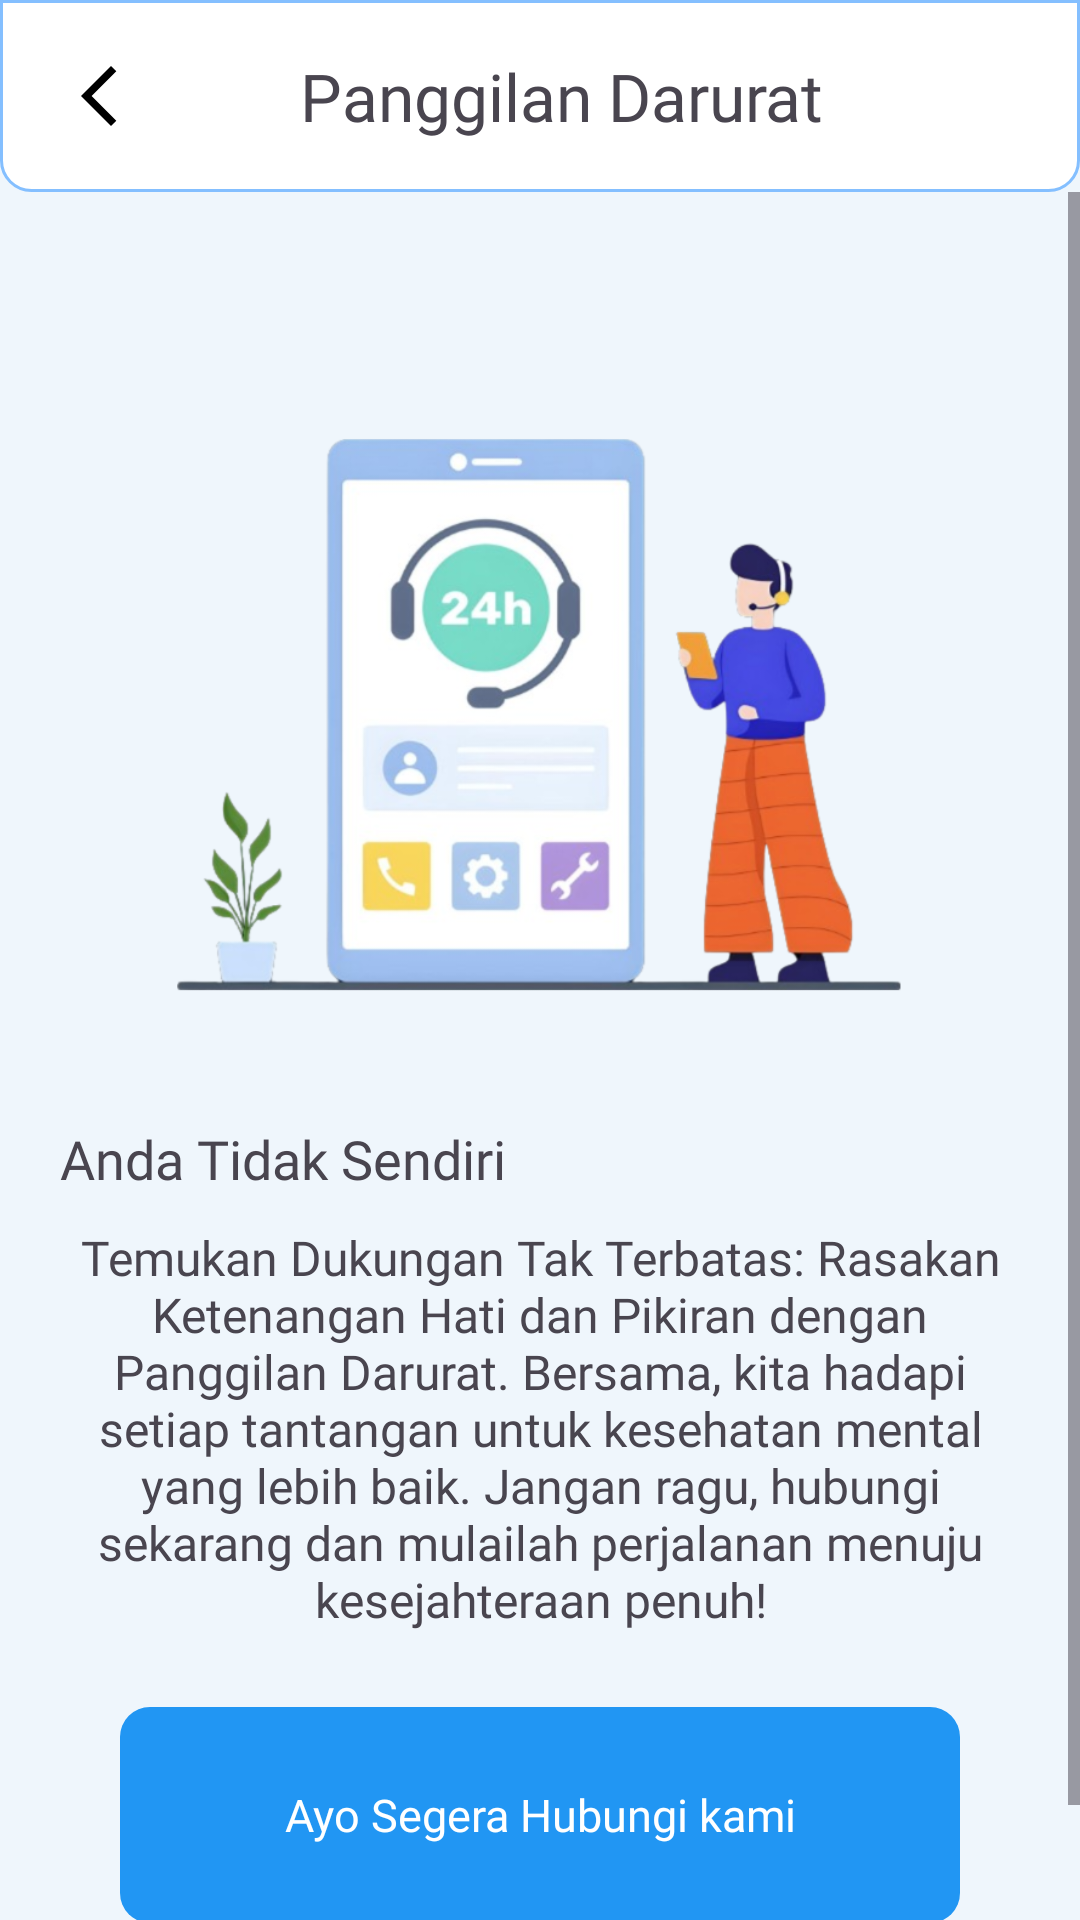

Icon click points for this 1080 x 1920 phone screenshot, format (x,y):
kembali: (98,96)
